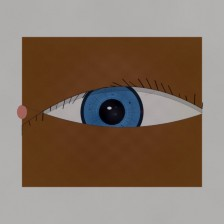hemorrhage_spot: (87, 94, 146, 141)
